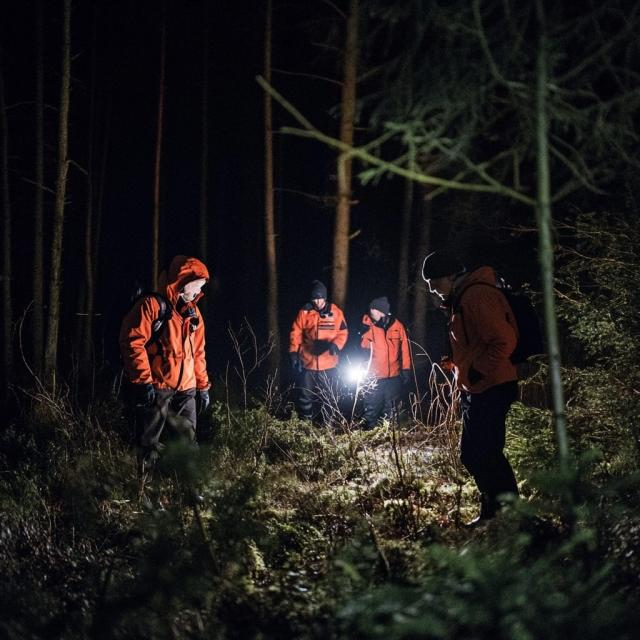Forest: (0, 0, 640, 640)
Militant: (405, 254, 555, 560), (90, 240, 241, 504), (345, 276, 424, 458), (280, 272, 353, 447)
